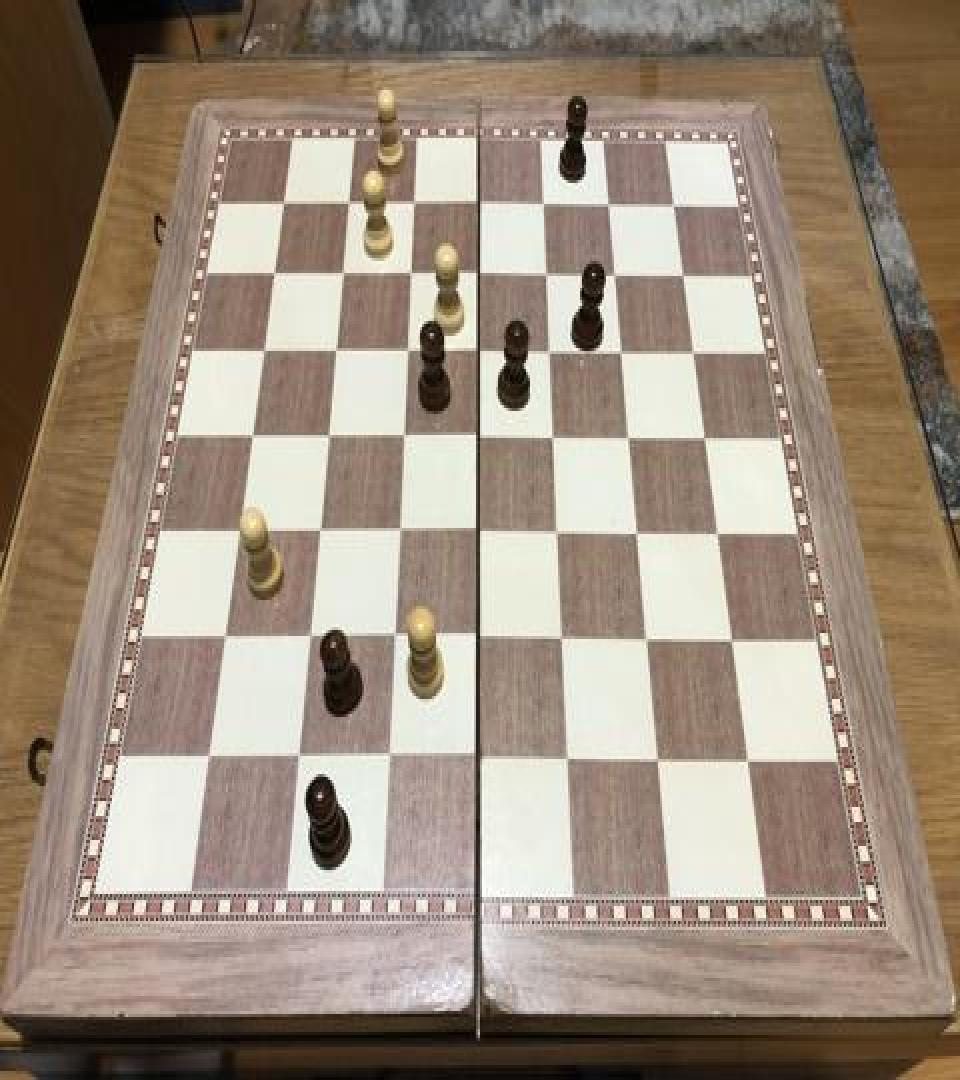xcorner: (546, 514, 570, 551), (466, 514, 490, 551), (636, 622, 660, 659), (551, 622, 575, 659), (557, 742, 581, 779), (377, 739, 401, 776), (287, 739, 311, 776), (661, 186, 685, 222), (596, 186, 620, 222), (530, 186, 554, 222), (465, 186, 489, 222), (399, 184, 423, 220), (334, 184, 358, 220), (269, 184, 293, 220), (671, 256, 695, 292), (602, 256, 626, 292), (533, 256, 557, 292), (465, 255, 489, 291), (396, 255, 420, 291), (328, 255, 352, 291), (260, 255, 284, 291), (682, 334, 706, 370), (609, 334, 633, 370), (537, 333, 561, 369), (465, 333, 489, 369), (393, 333, 417, 369), (322, 332, 346, 368), (250, 332, 274, 368), (694, 422, 718, 458), (618, 420, 642, 456), (541, 420, 565, 456), (466, 418, 490, 454), (390, 418, 414, 454), (314, 417, 338, 453), (239, 417, 263, 453), (707, 516, 731, 552), (626, 516, 650, 552), (386, 513, 410, 549), (306, 513, 330, 549), (227, 512, 251, 548), (722, 624, 746, 660), (466, 621, 490, 657), (382, 620, 406, 656), (297, 620, 321, 656), (213, 618, 237, 654), (738, 744, 762, 780), (648, 744, 672, 780), (467, 741, 491, 777), (197, 738, 221, 774)
